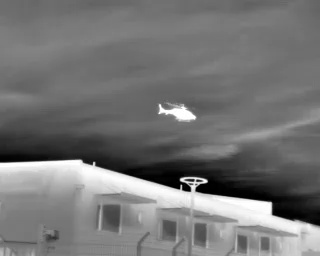HELICOPTER: (155, 97, 202, 129)
